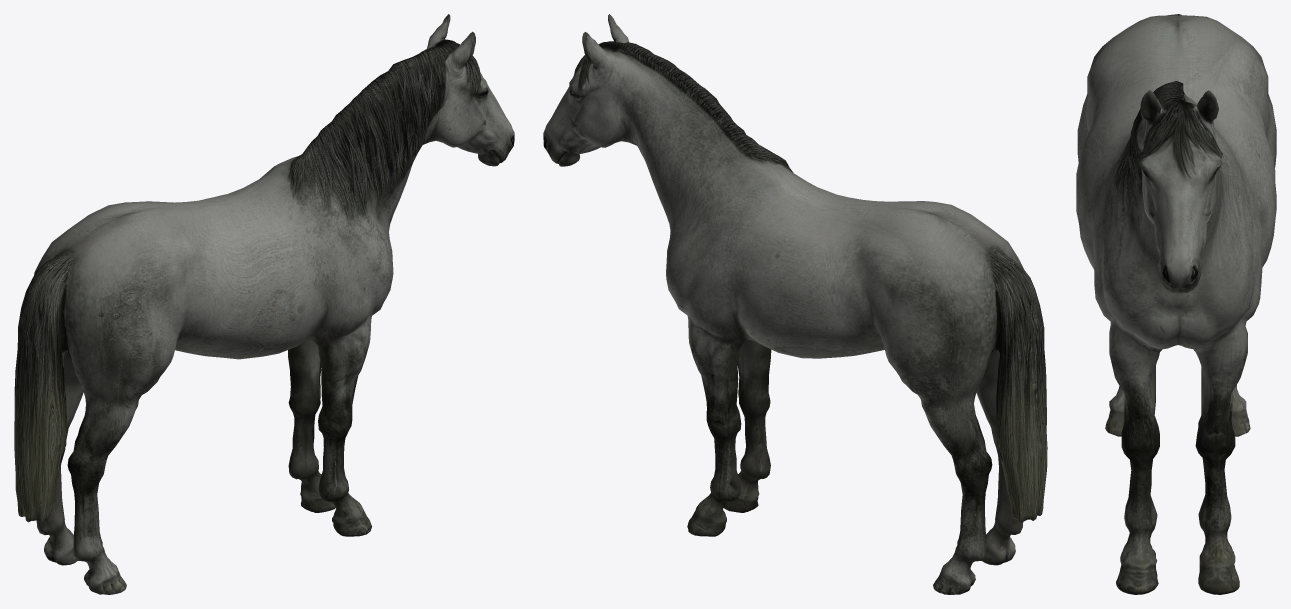
Rendered from horse.glb.
3 renders of one model, left to right at view 1: azimuth 30°, elevation 25°; view 2: azimuth 150°, elevation 25°; view 3: azimuth 270°, elevation 25°, orthographic. The views are drawn at different scales.
Visible parts, largest first — view 1: 7e2121ad-340b-4f24-84ab-c21fe0529a26_2; view 2: 7e2121ad-340b-4f24-84ab-c21fe0529a26_2; view 3: 7e2121ad-340b-4f24-84ab-c21fe0529a26_2.
Boxes of the visible parts, left/top/right/bottom form: 7e2121ad-340b-4f24-84ab-c21fe0529a26_2: left=14, top=14, right=514, bottom=594; 7e2121ad-340b-4f24-84ab-c21fe0529a26_2: left=543, top=14, right=1047, bottom=594; 7e2121ad-340b-4f24-84ab-c21fe0529a26_2: left=1076, top=14, right=1276, bottom=594.
Bounding box in the file's own units: 0.9986 × 0.897 × 0.2853.
1 material, 1 textured.
